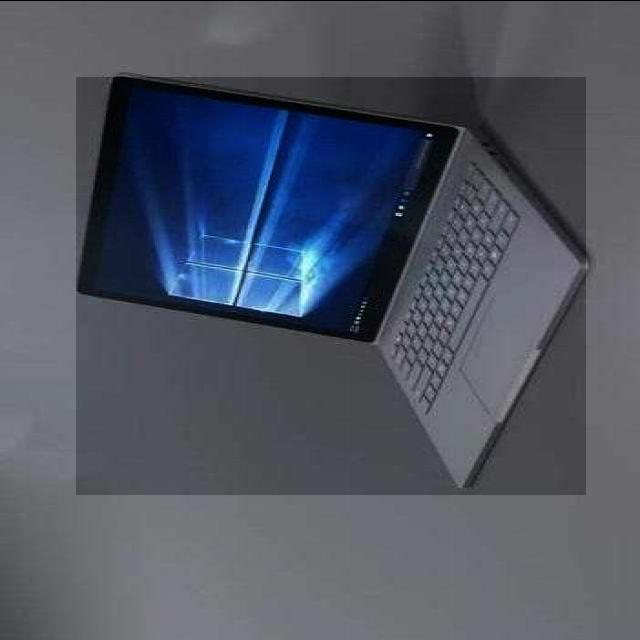-keyboard-: (76, 77, 586, 495)
